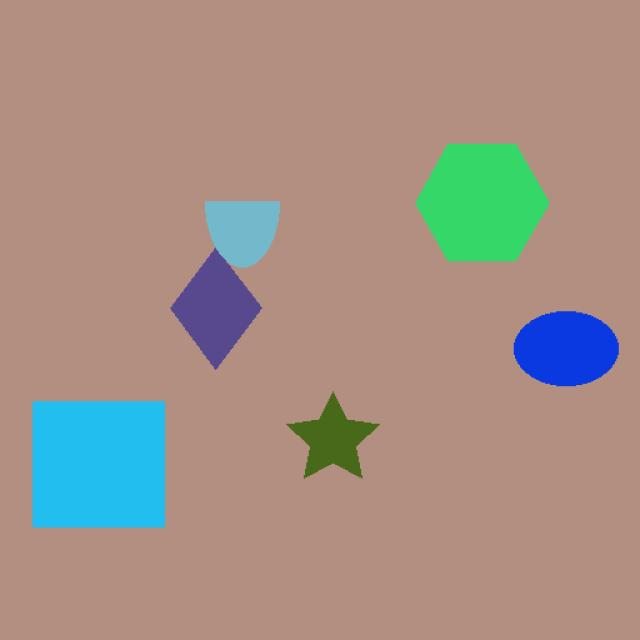Hexagon: (403, 136, 564, 267)
Kite: (142, 242, 286, 381)
Oval: (506, 302, 622, 406)
Semicircle: (198, 194, 296, 275)
Star: (280, 390, 392, 489)
square: (23, 390, 198, 539)
